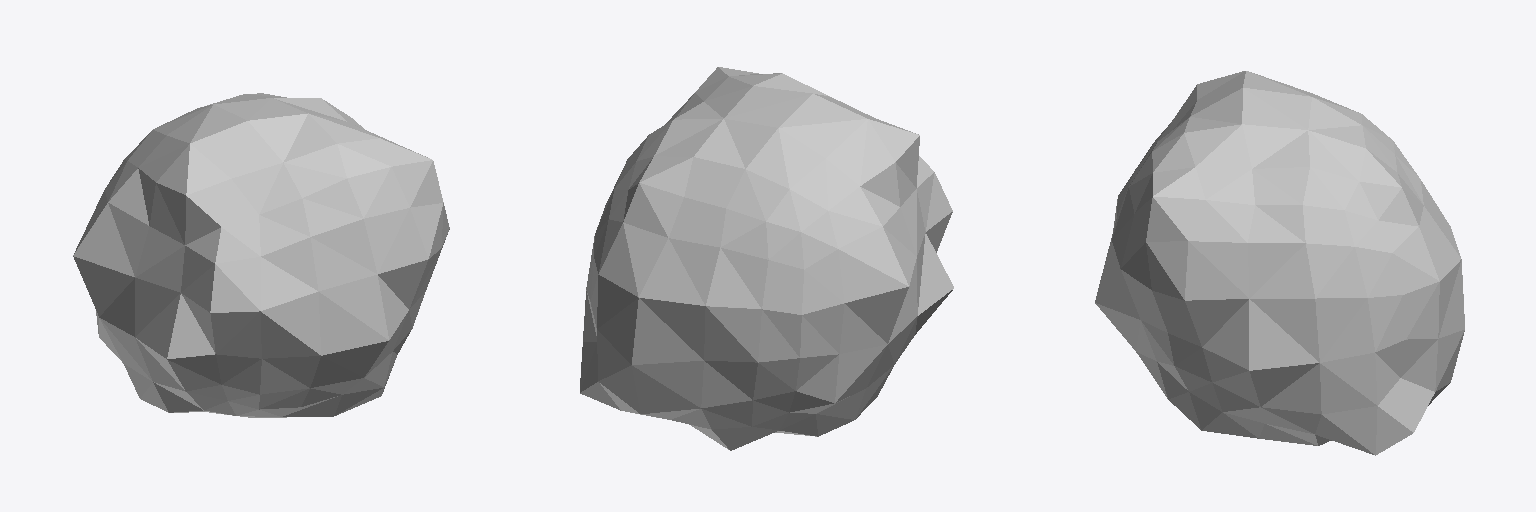
File: rock3.obj
3 renders of one model, left to right at view 1: azimuth 30°, elevation 25°; view 2: azimuth 150°, elevation 25°; view 3: azimuth 270°, elevation 25°, orthographic.
Visible parts, largest first — view 1: rock3; view 2: rock3; view 3: rock3.
Boxes of the visible parts, x1=… form: rock3: x1=73, y1=93, x2=449, y2=417; rock3: x1=580, y1=67, x2=953, y2=450; rock3: x1=1095, y1=71, x2=1464, y2=455.
Size of the model in its own units: 2.51 by 2.3 by 2.48.